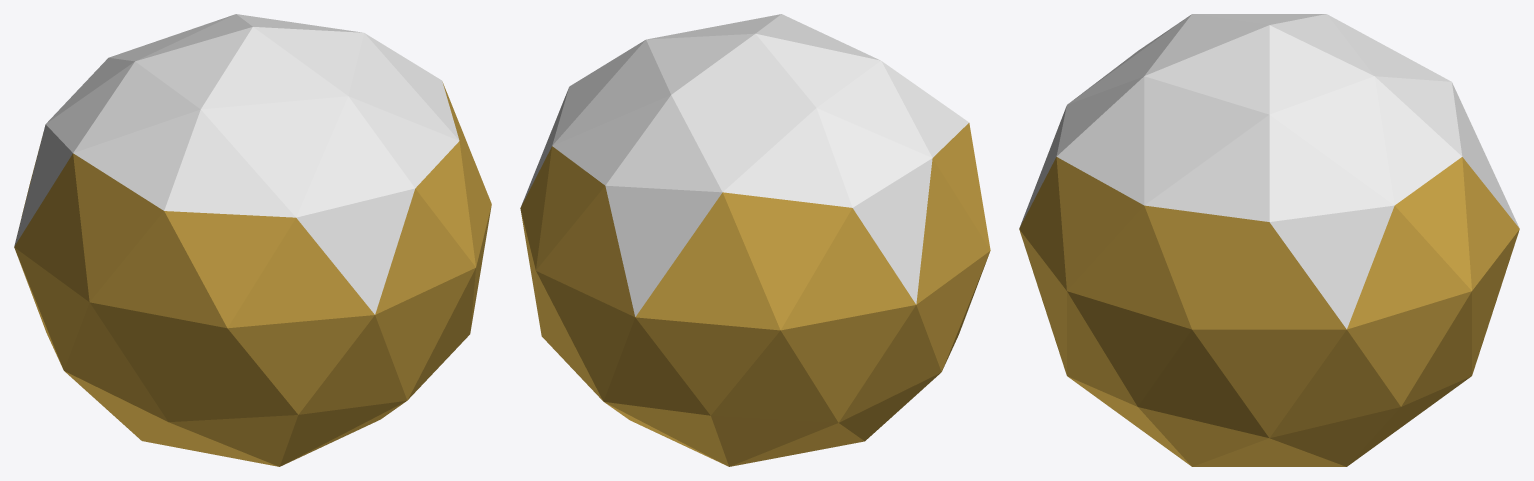
Rendered from plant2.fbx.
The picture shows the model from 3 angles, left to right: view 1: azimuth 30°, elevation 25°; view 2: azimuth 150°, elevation 25°; view 3: azimuth 270°, elevation 25°; orthographic projection. The views are drawn at different scales.
Visible parts, largest first — view 1: Icosphere; view 2: Icosphere; view 3: Icosphere.
Part boxes in pixels (x1,y1,x2,y2): Icosphere: (14,14,491,466); Icosphere: (520,14,990,466); Icosphere: (1019,14,1519,466).
Size of the model in its own units: 190 by 190 by 200.
